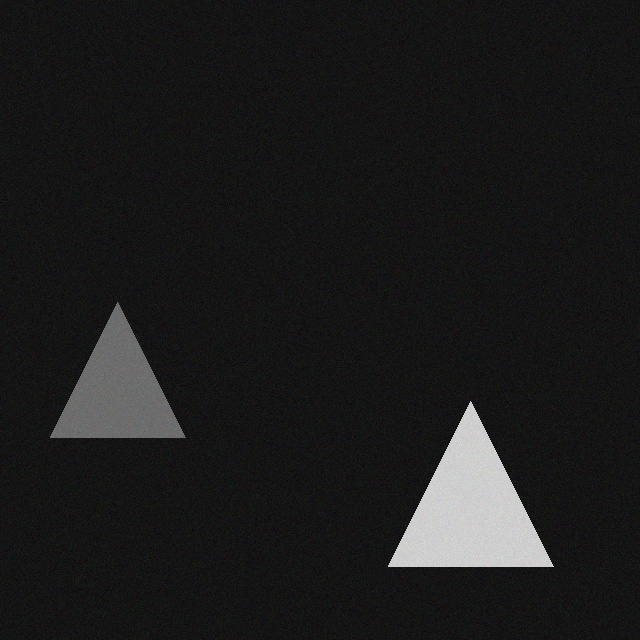triangle: (395, 392, 560, 557), (57, 293, 192, 428)
